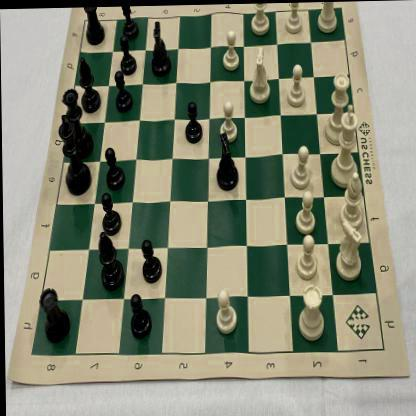black-bishop: (98, 230, 122, 291), (78, 54, 102, 112)
black-king: (60, 112, 90, 195)
black-knight: (214, 133, 240, 190), (150, 18, 171, 76)
black-pawn: (128, 290, 152, 340), (141, 236, 163, 284), (104, 146, 126, 190), (100, 192, 121, 235), (115, 67, 134, 111), (185, 98, 203, 144), (119, 36, 136, 73), (121, 5, 140, 38)
black-queen: (62, 87, 92, 155)
white-bishop: (338, 170, 366, 231), (248, 2, 271, 36)
white-king: (328, 102, 362, 190)
white-knight: (332, 219, 364, 280), (248, 44, 272, 104)
white-pawn: (294, 233, 320, 280), (214, 288, 238, 335), (290, 144, 310, 190), (286, 62, 306, 107), (294, 190, 315, 232), (219, 100, 238, 142), (222, 30, 240, 72), (284, 2, 304, 36)
white-queen: (322, 72, 355, 146)
white-rook: (38, 282, 72, 344), (296, 283, 326, 342), (83, 6, 105, 46), (316, 2, 340, 34)
